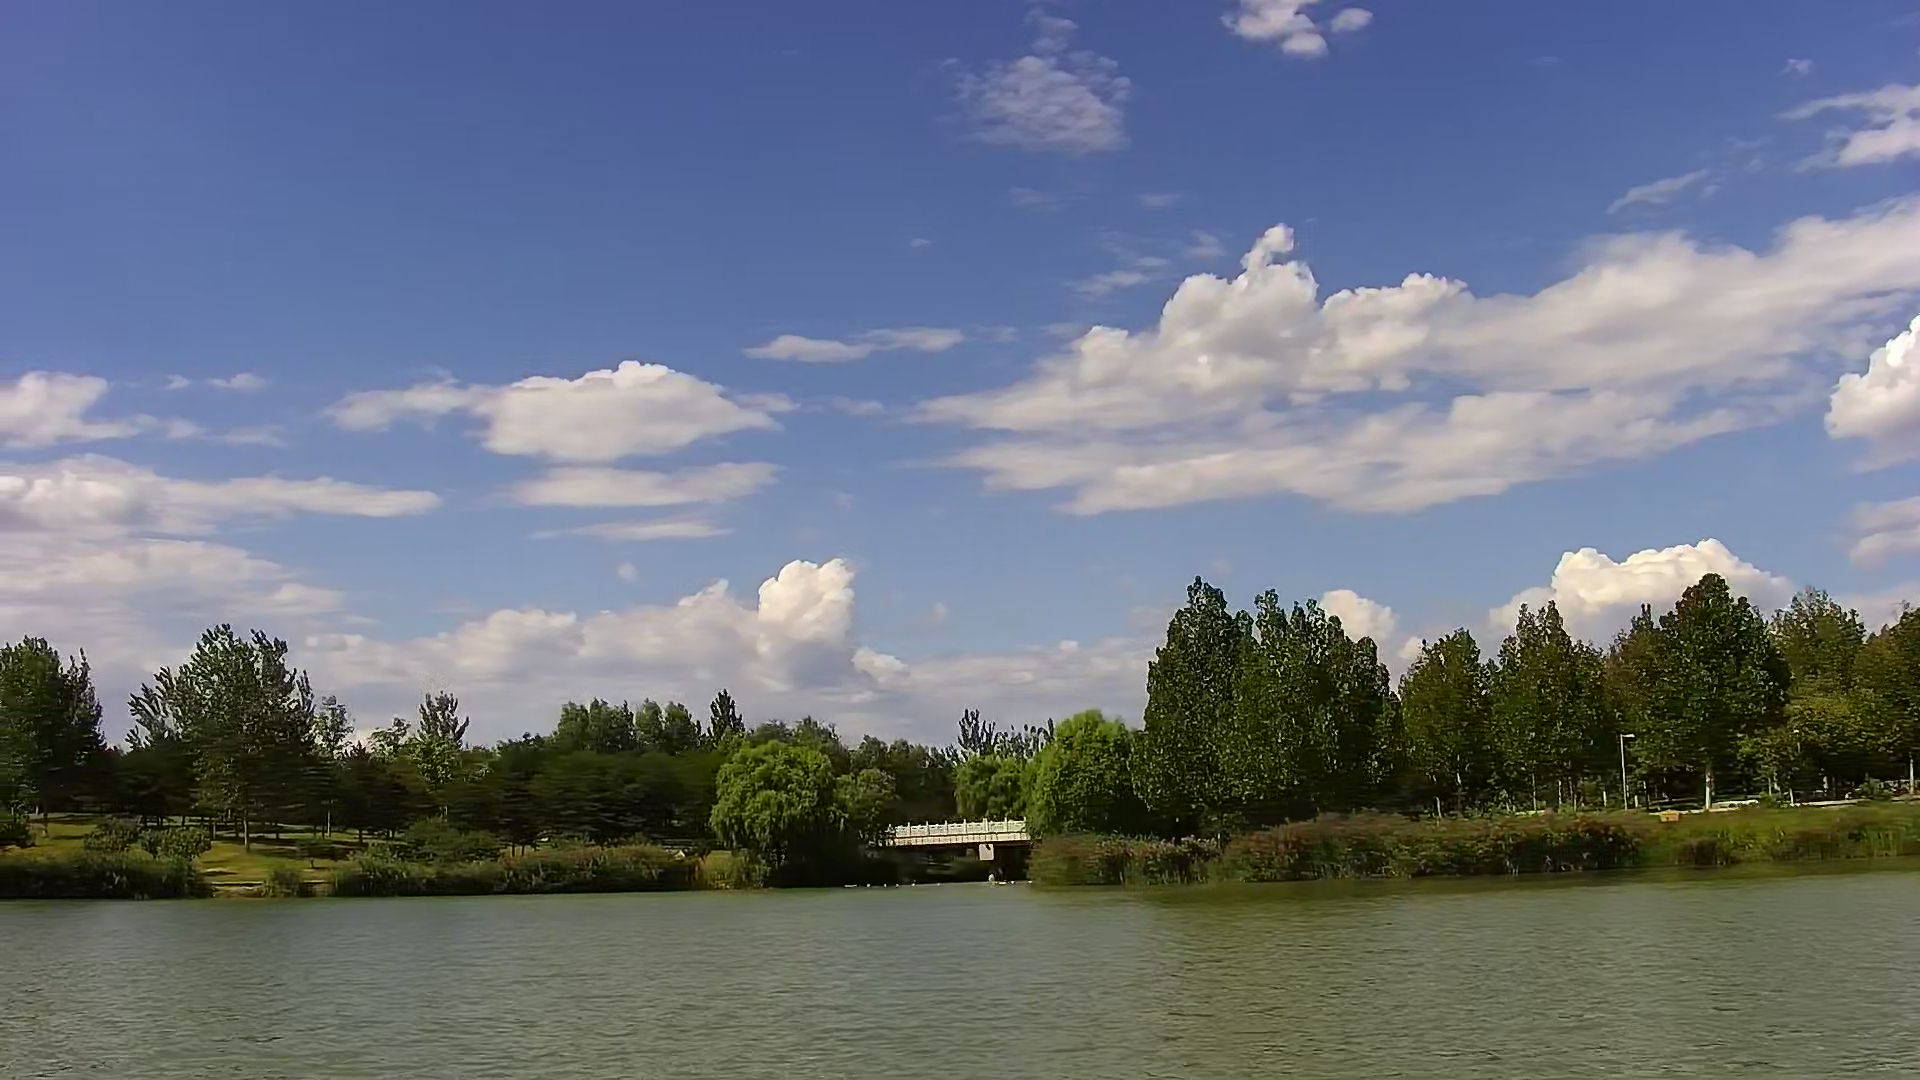bridge: (890, 820, 1029, 874)
